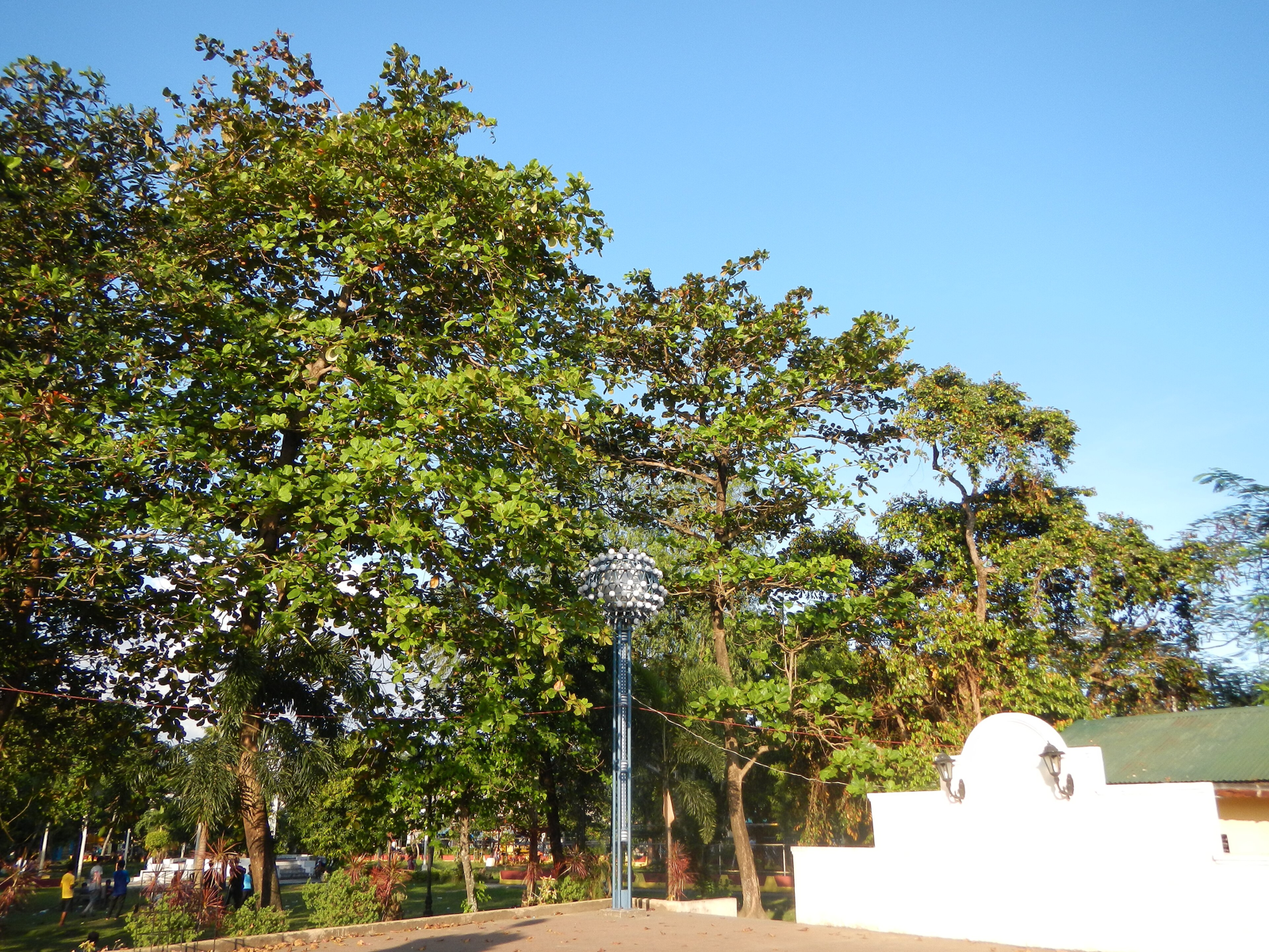fachada: (785, 677, 1269, 952)
poste: (568, 510, 690, 920)
